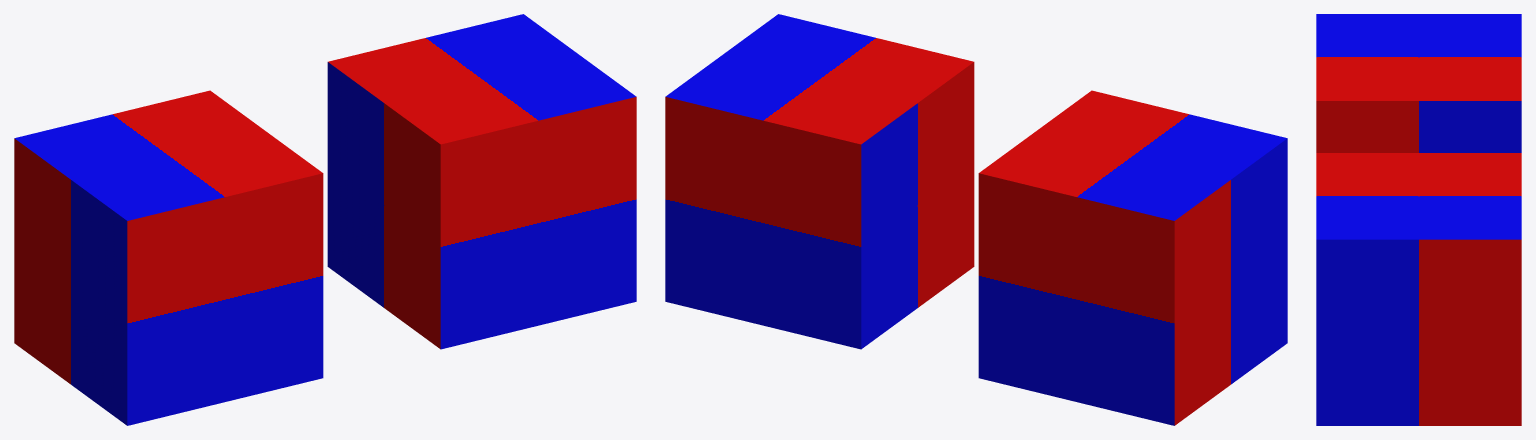
File: instanced-cubes.glb
The picture shows the model from 3 angles, left to right: view 1: azimuth 30°, elevation 25°; view 2: azimuth 150°, elevation 25°; view 3: azimuth 270°, elevation 25°; orthographic projection. The views are drawn at different scales.
Parts seen in each view (by area): view 1: left cube, mirrored cube; view 2: left cube, mirrored cube; view 3: mirrored cube, left cube.
Part boxes in pixels (x1,y1,x2,y2): left cube: (14, 90, 323, 425); mirrored cube: (327, 14, 636, 349); left cube: (978, 90, 1287, 425); mirrored cube: (665, 14, 974, 349); mirrored cube: (1316, 153, 1521, 425); left cube: (1316, 14, 1521, 152).
Bounding box in the file's own units: 2.6 × 1 × 1.
1 material, 1 textured.
